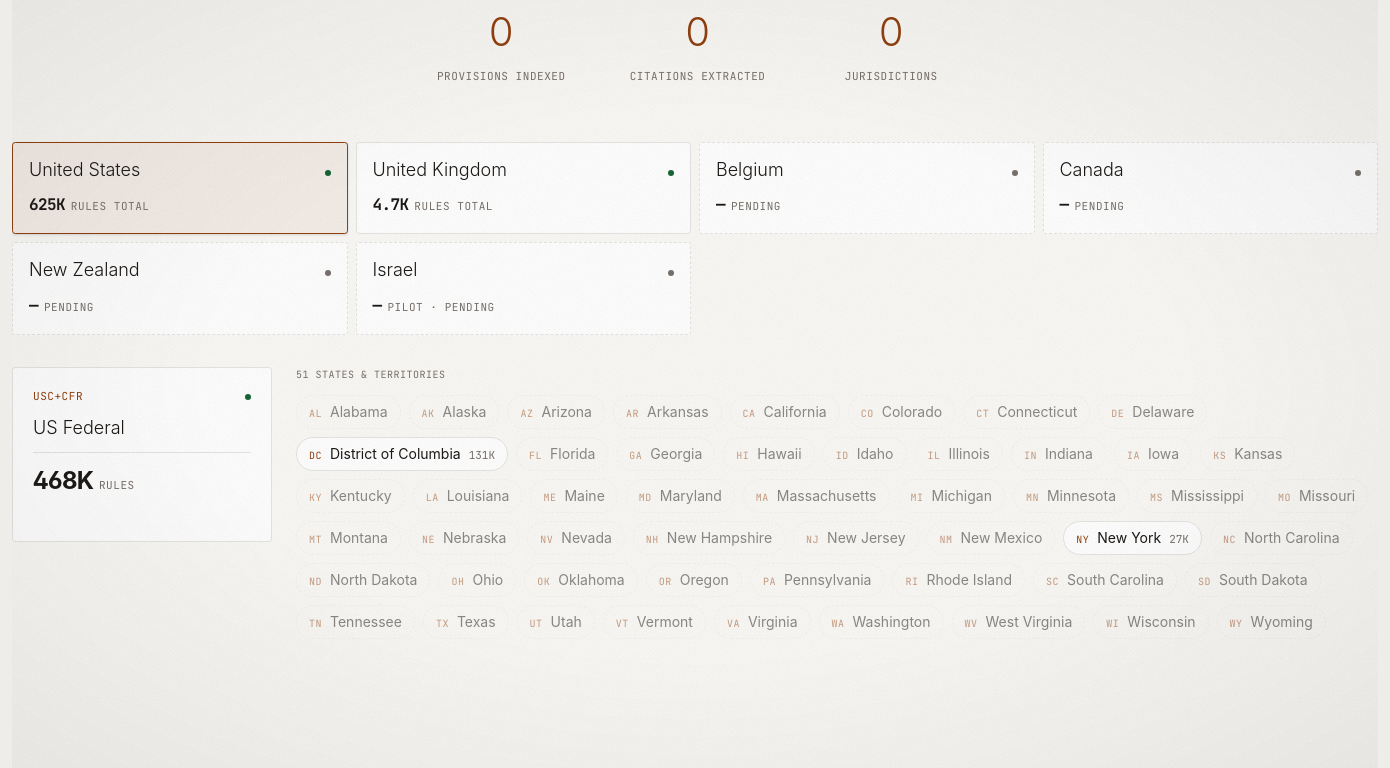
it: landing presentation for a country outside the read list › says why Israel is empty when its tab is opened
Click the tab "Israel — pilot · pending". click: (395, 270)
box: left=356, top=242, right=691, bottom=335
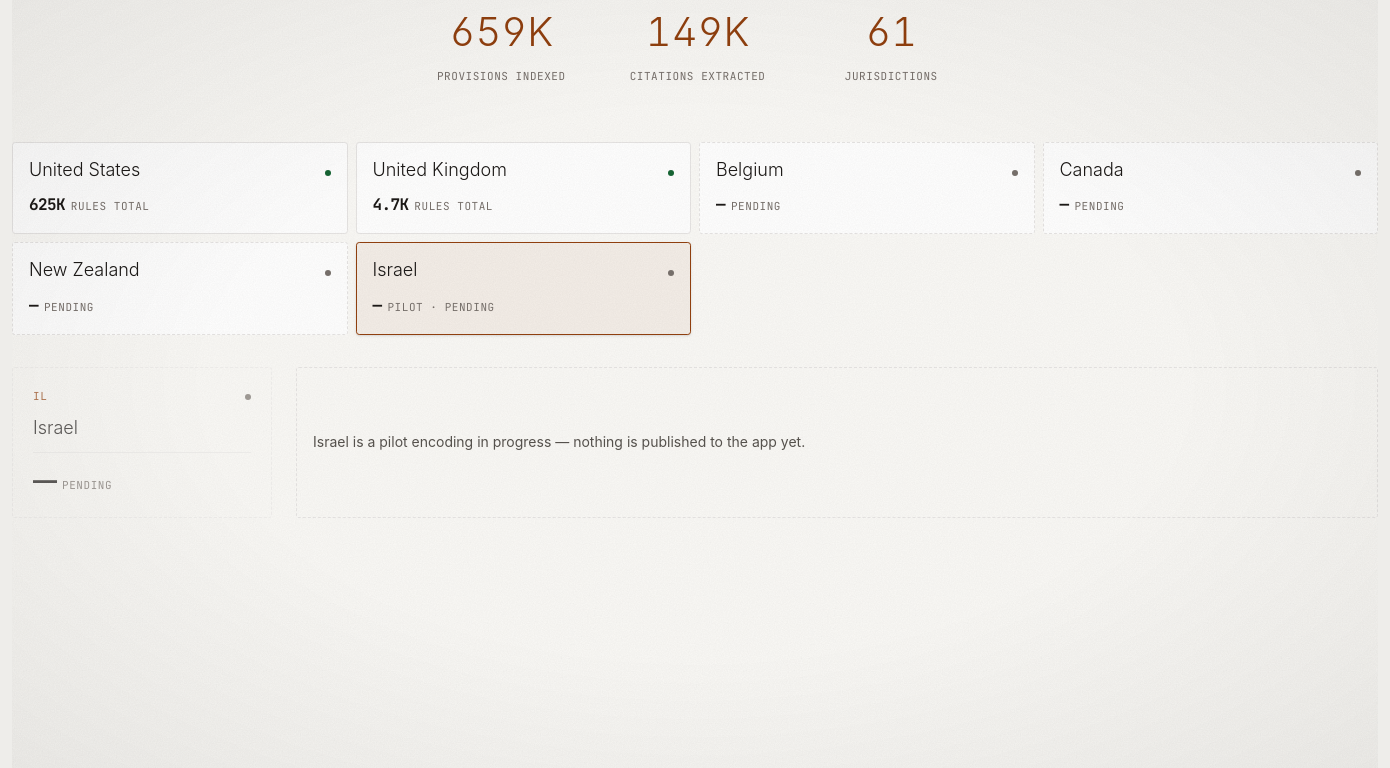
Expected: the text "Israel is a pilot encoding in progress — nothing is published to the app yet." is shown, left=296, top=367, right=1378, bottom=518
Expected: the element titled "Israel — pilot encoding in progress, not yet published to the app" is shown, left=12, top=367, right=272, bottom=518
